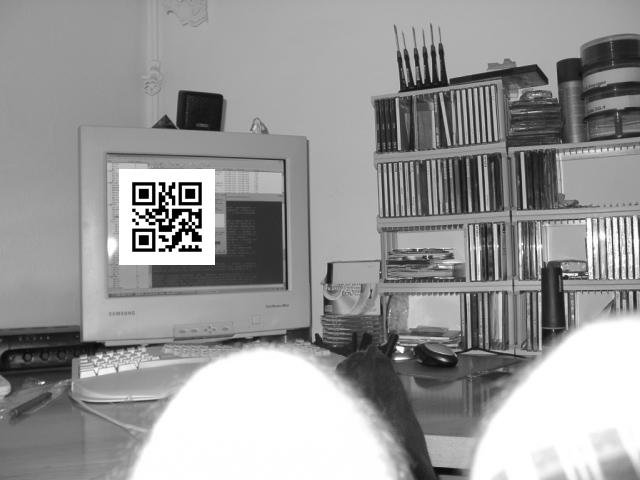qr_code: (120, 168, 214, 262)
